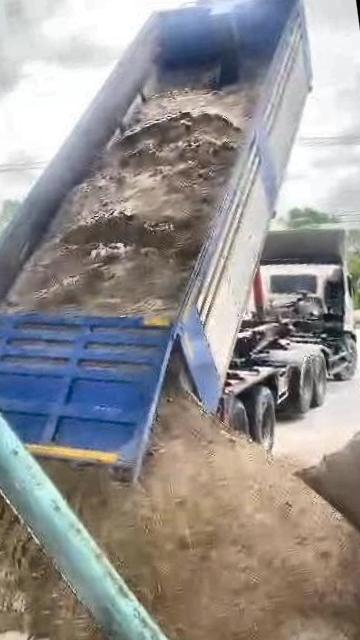sand: (47, 388, 360, 640), (4, 76, 257, 314), (0, 454, 131, 640), (302, 421, 360, 547)
